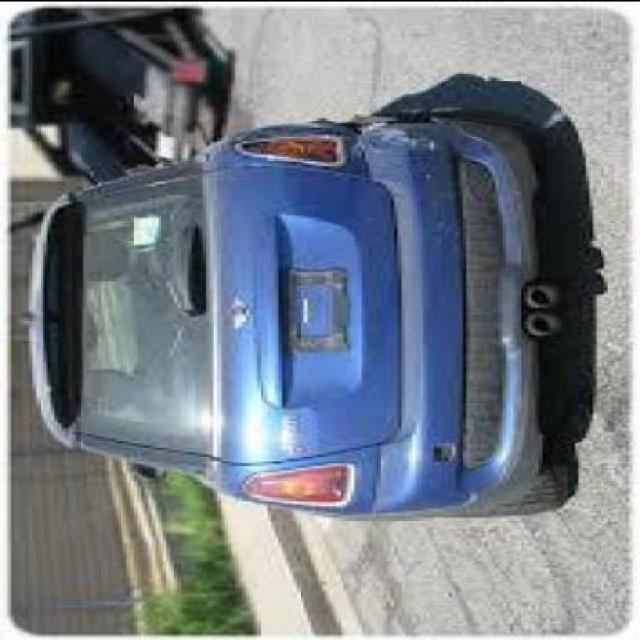damage: (321, 113, 442, 159)
